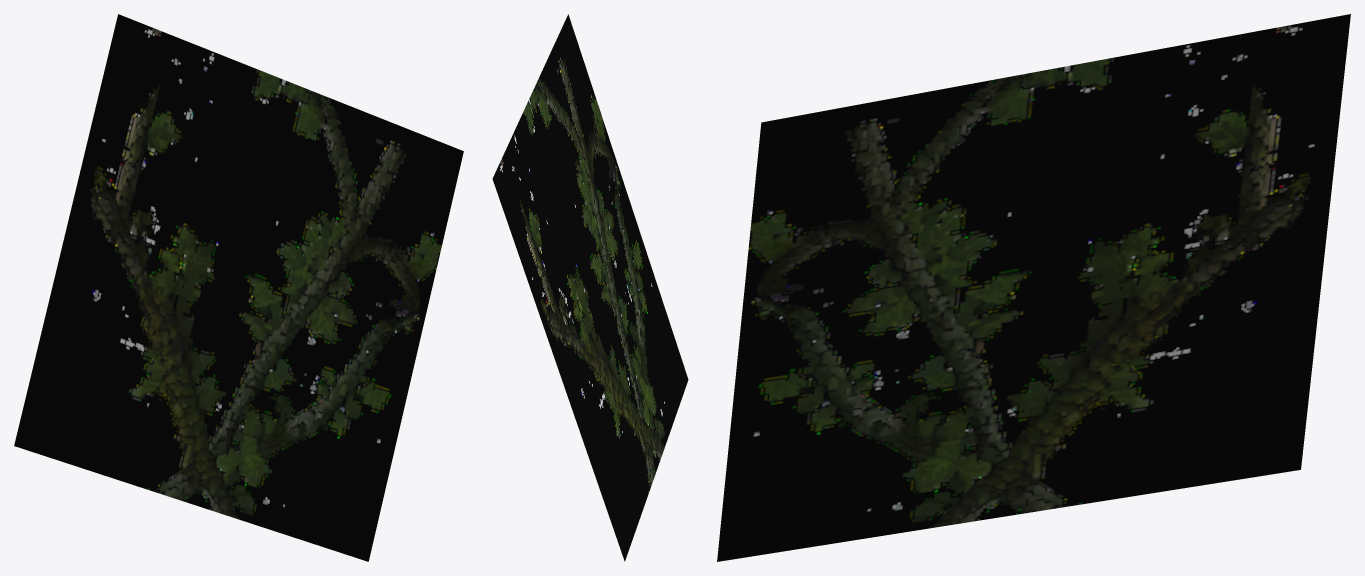
File: Climbing_Ivy_3.gltf
3 views of the same model, side by side, from view 1: azimuth 30°, elevation 25°; view 2: azimuth 150°, elevation 25°; view 3: azimuth 270°, elevation 25° (orthographic). The views are drawn at different scales.
Parts seen in each view (by area): view 1: Climbing_Ivy_3; view 2: Climbing_Ivy_3; view 3: Climbing_Ivy_3.
Part boxes in pixels (left/top/right/bottom): Climbing_Ivy_3: left=14, top=14, right=463, bottom=561; Climbing_Ivy_3: left=492, top=14, right=688, bottom=561; Climbing_Ivy_3: left=717, top=14, right=1350, bottom=561.
Bounding box in the file's own units: 4.22 × 6.15 × 6.56.
1 material, 1 textured.
